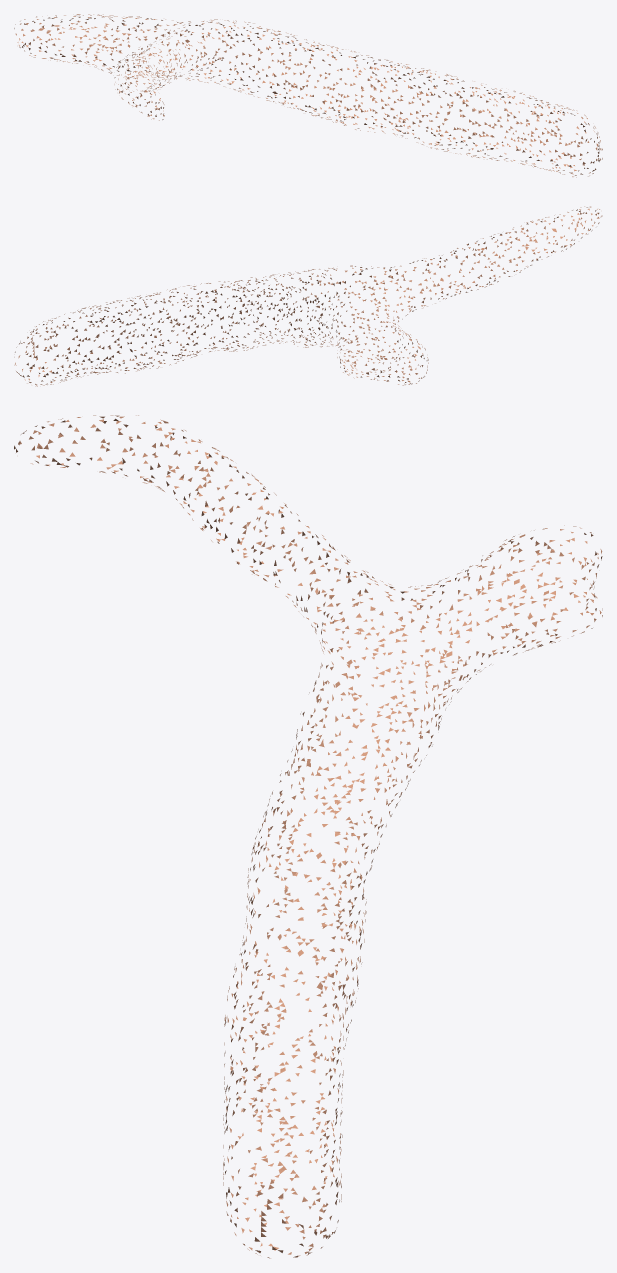
Rendered from morph_004.glb.
3 views of the same model, one above another, from view 1: azimuth 30°, elevation 25°; view 2: azimuth 150°, elevation 25°; view 3: azimuth 270°, elevation 25° (orthographic). The views are drawn at different scales.
Bounding box in the file's own units: 124 × 58.89 × 71.79.
